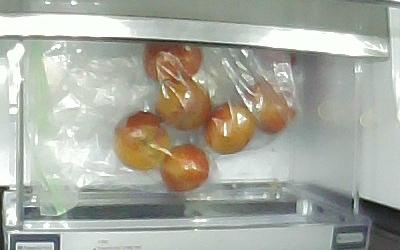prune_vinyl: (114, 111, 171, 171), (156, 76, 212, 131), (243, 80, 296, 134), (203, 103, 255, 154), (143, 42, 201, 82), (160, 144, 209, 191)
